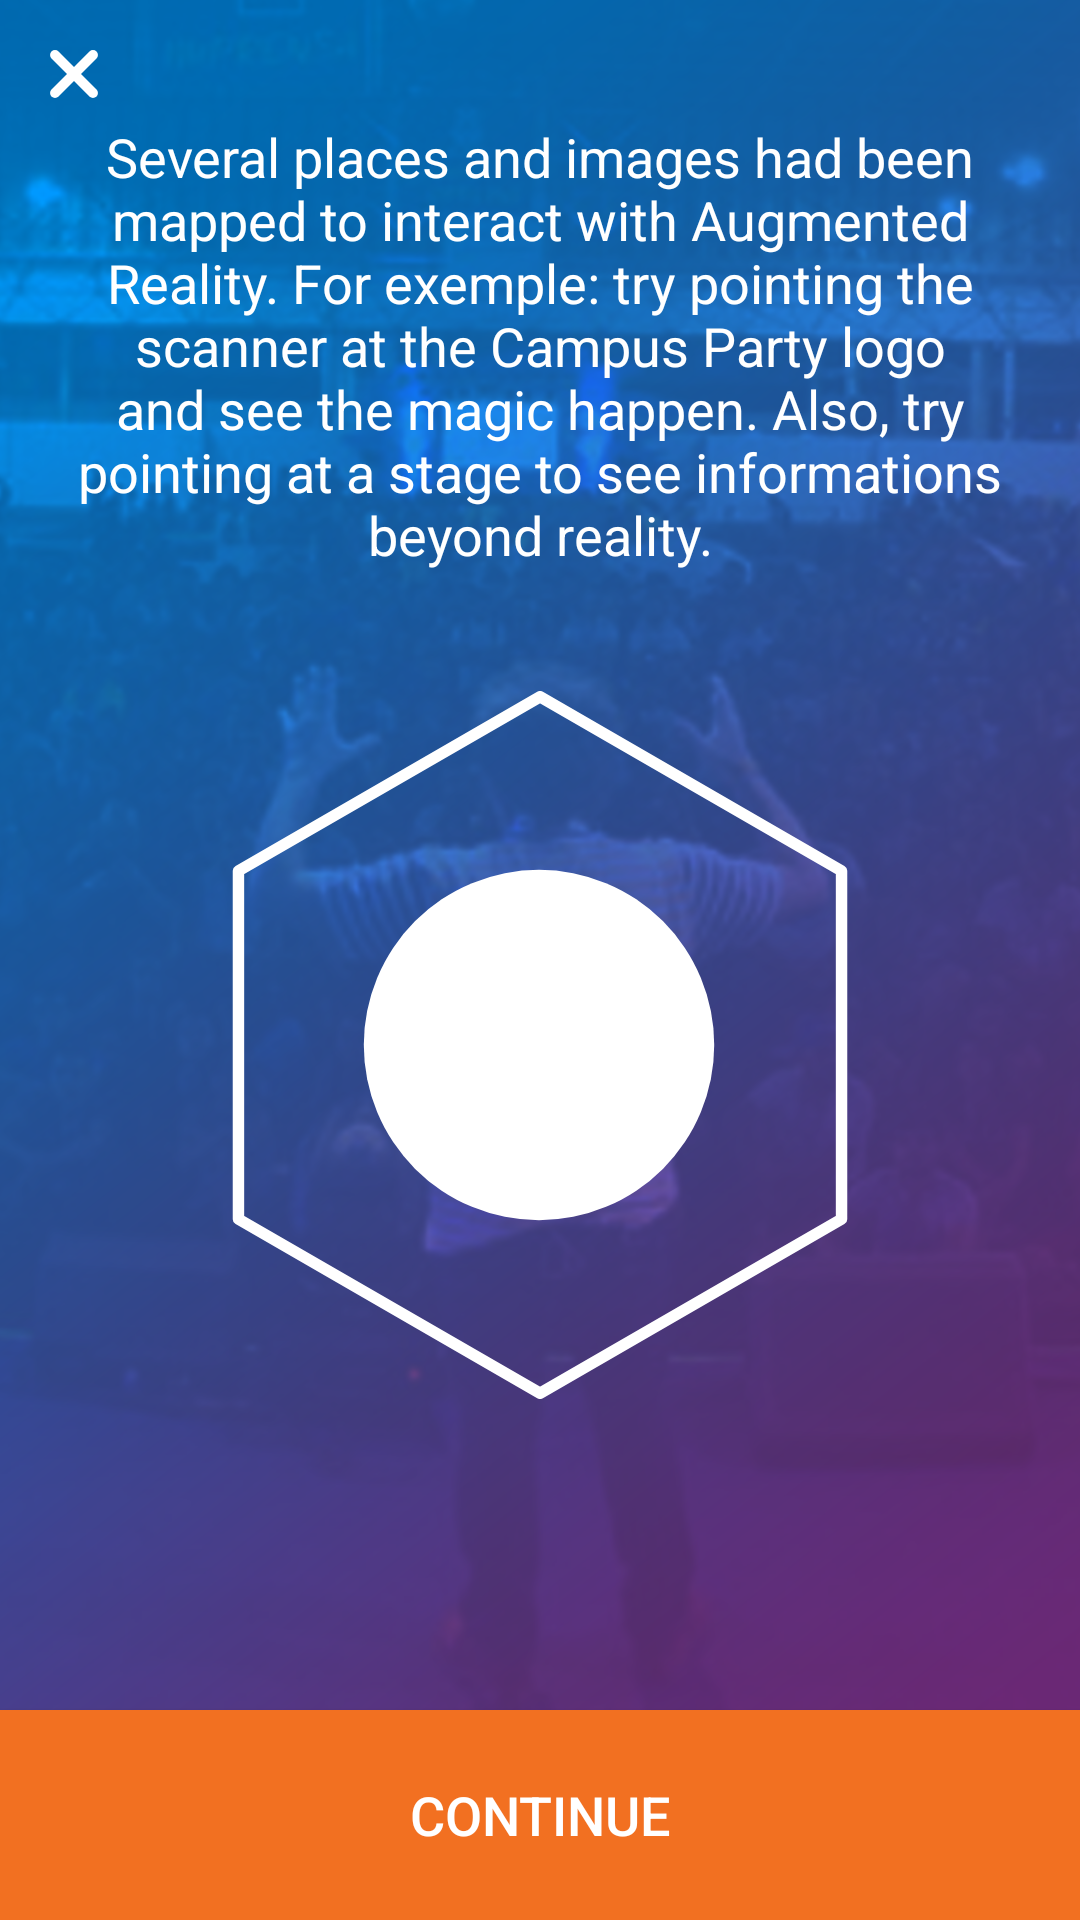

Screen size 1080x1920. Icon name, then its box in pixels as {"x1": x1, "y1": y1, "x2": x2, "y2": y2}:
close: {"x1": 50, "y1": 50, "x2": 98, "y2": 98}
